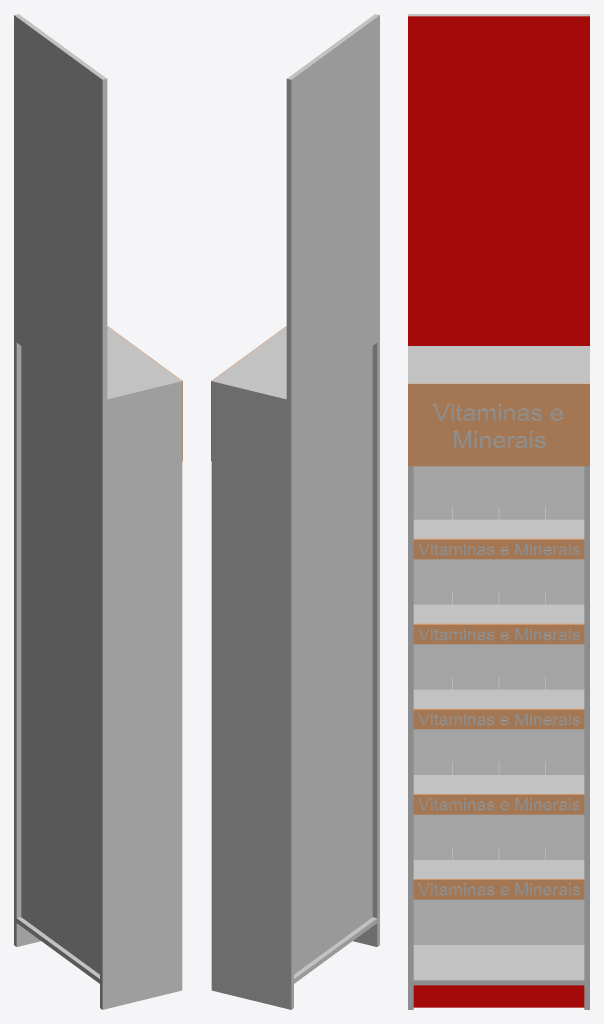
File: mip Vitaminas e Minerais.glb
3 views of the same model, side by side, from view 1: azimuth 30°, elevation 25°; view 2: azimuth 150°, elevation 25°; view 3: azimuth 270°, elevation 25° (orthographic). The views are drawn at different scales.
Visible parts, largest first — view 1: Geom3D_ (×6); view 2: Geom3D_ (×6); view 3: Geom3D (×8), Geom3D_ (×11), Geom3D_Vitaminas e Mine (×5), Geom3D_Vitaminas e Mine#1.
Part boxes in pixels (x1=…): Geom3D_ (×6): x1=14, y1=14, x2=182, y2=1009; Geom3D_ (×6): x1=211, y1=14, x2=379, y2=1009; Geom3D (×8): x1=408, y1=16, x2=589, y2=1007; Geom3D_ (×11): x1=408, y1=14, x2=589, y2=1009; Geom3D_Vitaminas e Mine (×5): x1=418, y1=543, x2=579, y2=895; Geom3D_Vitaminas e Mine#1: x1=433, y1=404, x2=562, y2=448.
Bounding box in the file's own units: 0.263 × 2.9 × 0.5.
